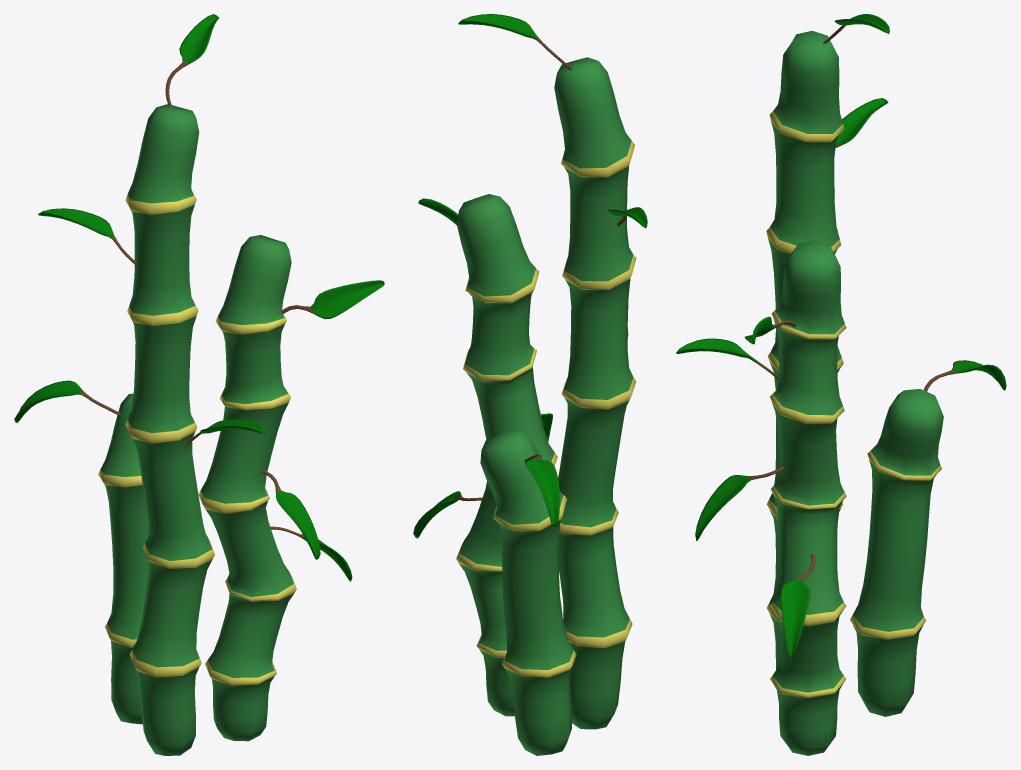
The model's file is Bamboo_Croissance_1.fbx.
3 renders of one model, left to right at view 1: azimuth 30°, elevation 25°; view 2: azimuth 150°, elevation 25°; view 3: azimuth 270°, elevation 25°, orthographic. The views are drawn at different scales.
Visible parts, largest first — view 1: Plane.001, Plane.003, Plane.006, Plane.002, Plane.005, Plane.007, Plane.004; view 2: Plane.001, Plane.007, Plane.006, Plane, Plane.005, Plane.003; view 3: Plane.001, Plane, Plane.002, Plane.005, Plane.004, Plane.007, Plane.006.
Boxes of the visible parts, x1,y1,x2,y2 form: Plane.001: (98, 104, 296, 755); Plane.003: (282, 280, 384, 319); Plane.006: (165, 14, 219, 106); Plane.002: (260, 469, 320, 559); Plane.005: (38, 208, 137, 266); Plane.007: (14, 380, 120, 423); Plane.004: (184, 419, 265, 447); Plane.001: (456, 57, 636, 755); Plane.007: (524, 454, 559, 527); Plane.006: (458, 14, 572, 70); Plane: (413, 491, 482, 538); Plane.005: (608, 207, 647, 228); Plane.003: (418, 198, 458, 225); Plane.001: (766, 30, 943, 755); Plane: (780, 553, 815, 658); Plane.002: (695, 466, 783, 540); Plane.005: (835, 98, 888, 147); Plane.004: (676, 338, 779, 380); Plane.007: (924, 360, 1006, 391); Plane.006: (823, 14, 889, 43).
Size of the model in its own units: 81.36 by 190 by 77.75.
